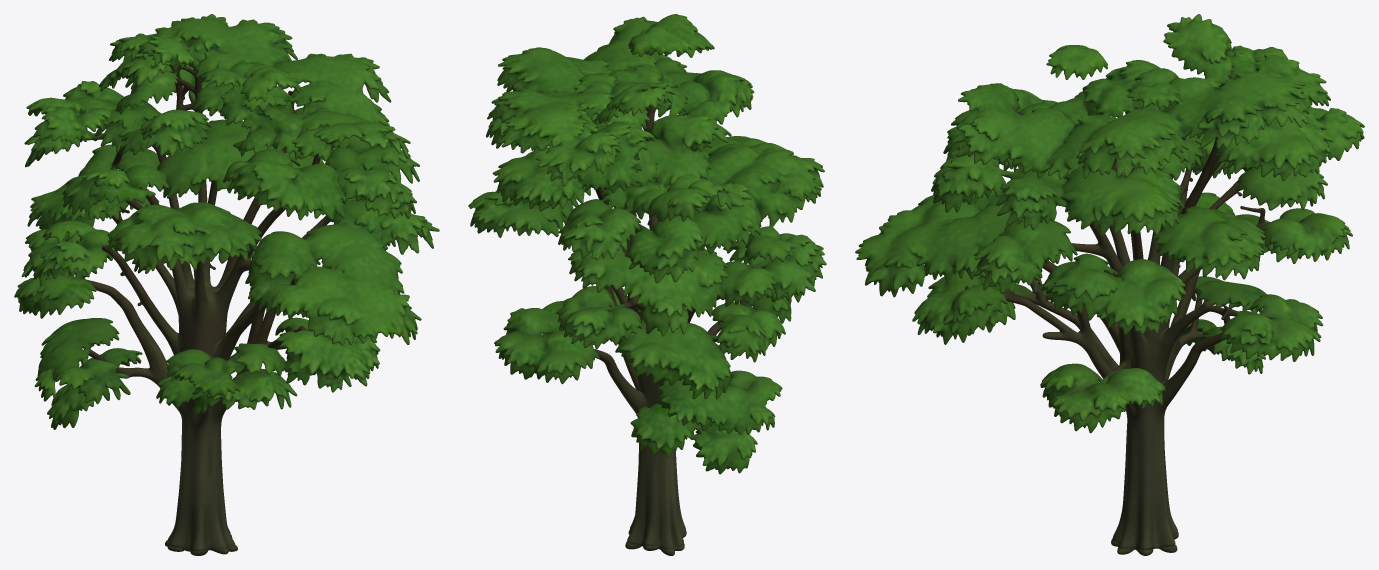
File: tree_3d_model.fbx
3 renders of one model, left to right at view 1: azimuth 30°, elevation 25°; view 2: azimuth 150°, elevation 25°; view 3: azimuth 270°, elevation 25°, orthographic. The views are drawn at different scales.
Visible parts, largest first — view 1: tripo_node_b275470f; view 2: tripo_node_b275470f; view 3: tripo_node_b275470f.
Part boxes in pixels (x1,y1,x2,y2): tripo_node_b275470f: (14,14,439,555); tripo_node_b275470f: (468,14,826,555); tripo_node_b275470f: (855,14,1364,555).
Bounding box in the file's own units: 0.747 × 0.9829 × 0.8793.
